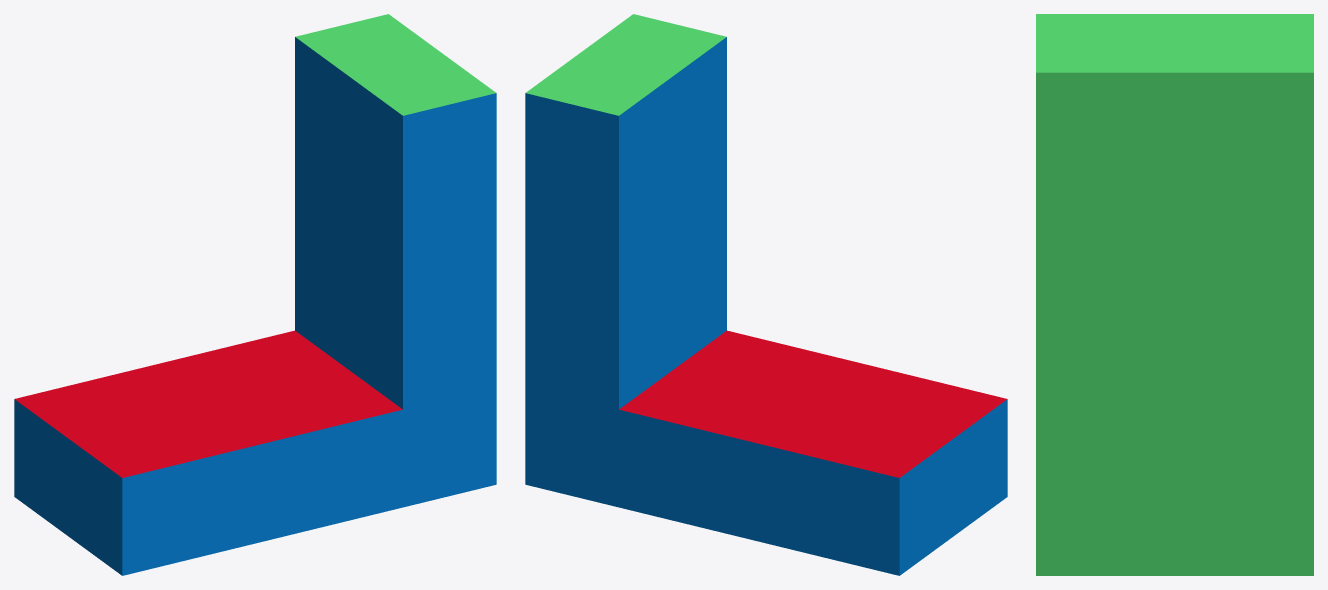
Rendered from selfShadowingUnitTest.dae.
3 renders of one model, left to right at view 1: azimuth 30°, elevation 25°; view 2: azimuth 150°, elevation 25°; view 3: azimuth 270°, elevation 25°, orthographic. The views are drawn at different scales.
Visible parts, largest first — view 1: test_1; view 2: test_1; view 3: test_1.
Part boxes in pixels (left/top/right/bottom): test_1: left=14, top=14, right=496, bottom=575; test_1: left=525, top=14, right=1007, bottom=575; test_1: left=1036, top=14, right=1313, bottom=575.
Size of the model in its own units: 2 by 1 by 2.
